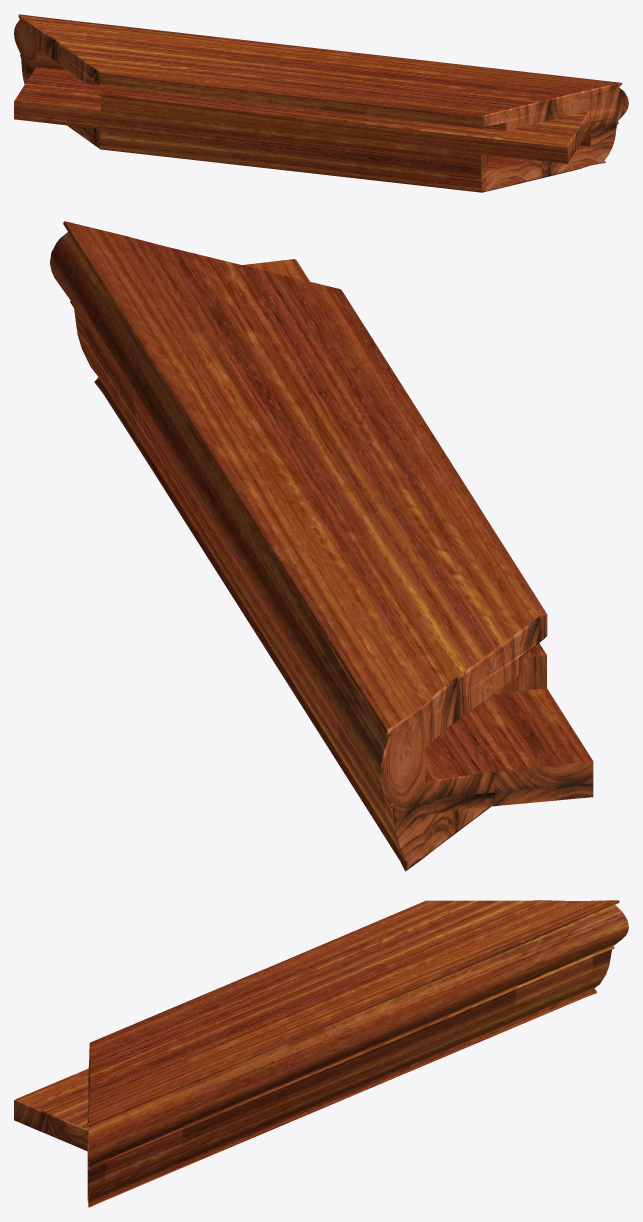
Rendered from changfangwu_J_D_zogjiao_02.FBX.
The picture shows the model from 3 angles, top to bottom: view 1: azimuth 30°, elevation 25°; view 2: azimuth 150°, elevation 25°; view 3: azimuth 270°, elevation 25°; orthographic projection. The views are drawn at different scales.
Parts seen in each view (by area): view 1: changfangwu_J_D_zogjiao_02; view 2: changfangwu_J_D_zogjiao_02; view 3: changfangwu_J_D_zogjiao_02.
Part boxes in pixels (x1,y1,x2,y2): changfangwu_J_D_zogjiao_02: [14, 14, 628, 192]; changfangwu_J_D_zogjiao_02: [50, 221, 593, 871]; changfangwu_J_D_zogjiao_02: [14, 900, 628, 1207].
Size of the model in its own units: 25.26 by 4.23 by 25.25.
Materials: 2 (2 with a texture image).
